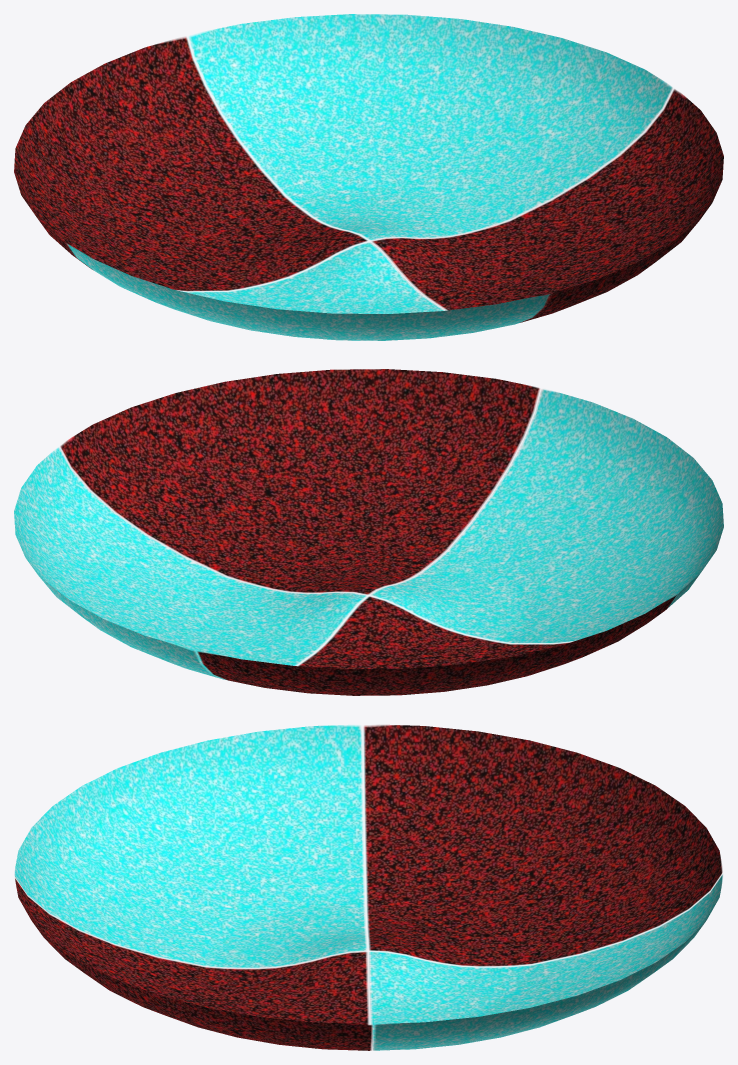
The picture shows the model from 3 angles, top to bottom: view 1: azimuth 30°, elevation 25°; view 2: azimuth 150°, elevation 25°; view 3: azimuth 270°, elevation 25°; orthographic projection.
Visible parts, largest first — view 1: SM_VFX_Bottom_Layer_LOD0; view 2: SM_VFX_Bottom_Layer_LOD0; view 3: SM_VFX_Bottom_Layer_LOD0.
Boxes of the visible parts, left/top/right/bottom form: SM_VFX_Bottom_Layer_LOD0: left=14, top=14, right=723, bottom=340; SM_VFX_Bottom_Layer_LOD0: left=14, top=369, right=723, bottom=695; SM_VFX_Bottom_Layer_LOD0: left=14, top=725, right=722, bottom=1050.
Size of the model in its own units: 66.96 by 9.71 by 66.96.
1 material, 1 textured.
